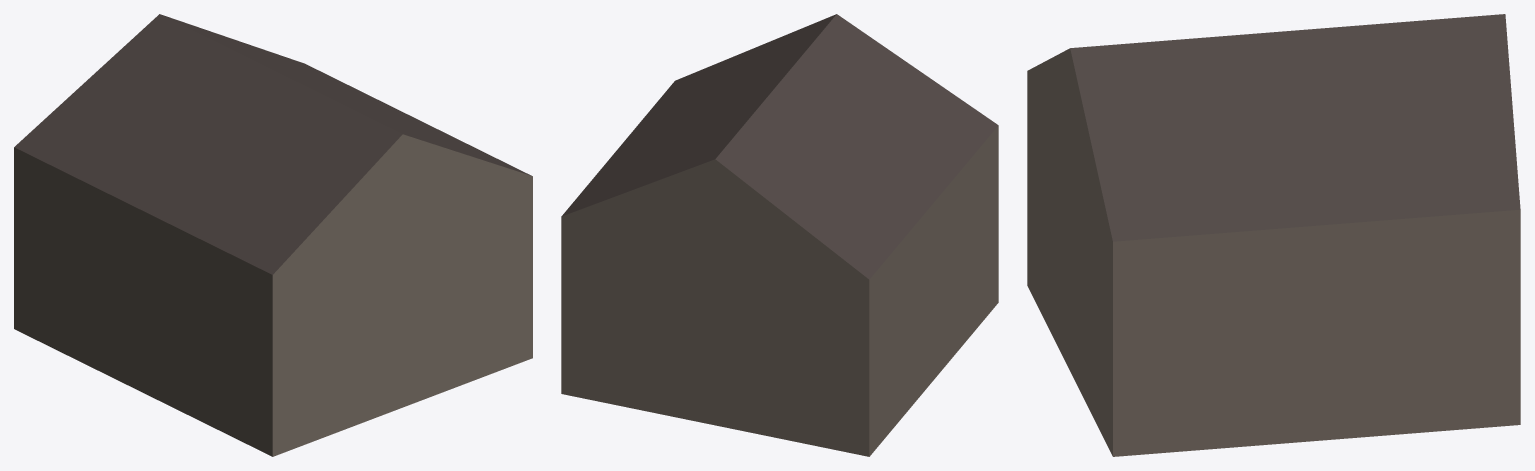
The picture shows the model from 3 angles, left to right: view 1: azimuth 30°, elevation 25°; view 2: azimuth 150°, elevation 25°; view 3: azimuth 270°, elevation 25°; orthographic projection. The views are drawn at different scales.
Parts seen in each view (by area): view 1: HP-w1376988832; view 2: HP-w1376988832; view 3: HP-w1376988832.
Part boxes in pixels (x1,y1,x2,y2): HP-w1376988832: (14, 14, 532, 456); HP-w1376988832: (561, 14, 998, 456); HP-w1376988832: (1027, 14, 1520, 456).
Size of the model in its own units: 12.4 by 9.02 by 12.46.
